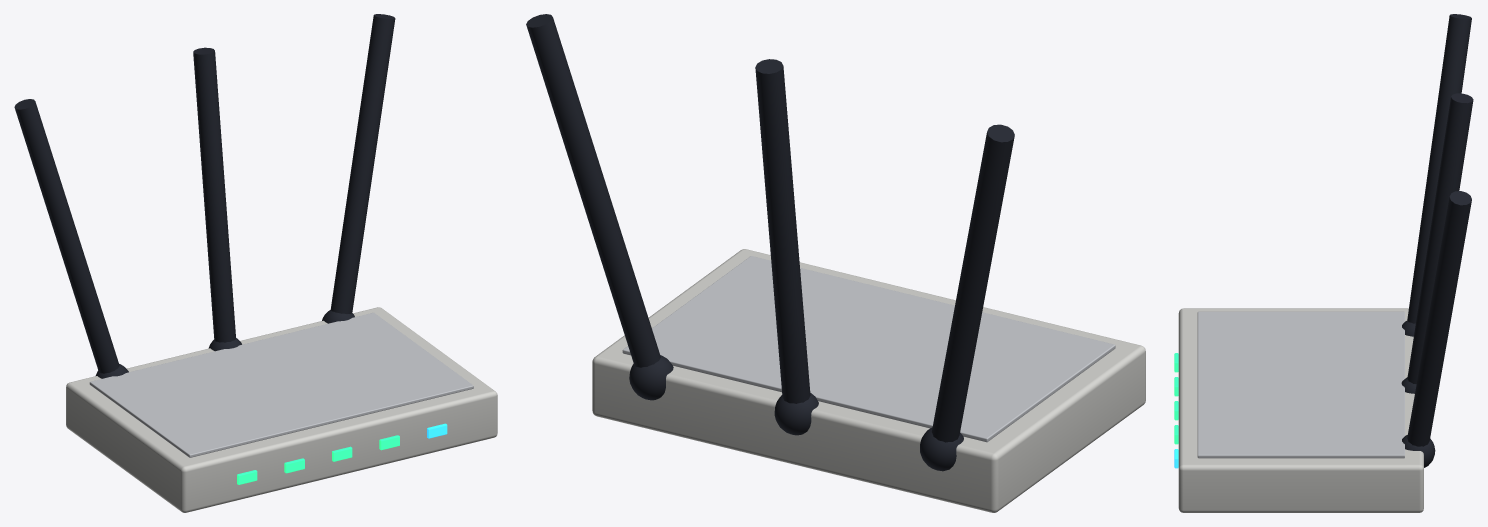
File: router.glb
The picture shows the model from 3 angles, left to right: view 1: azimuth 30°, elevation 25°; view 2: azimuth 150°, elevation 25°; view 3: azimuth 270°, elevation 25°; orthographic projection. The views are drawn at different scales.
Visible parts, largest first — view 1: router-solid, router-glow; view 2: router-solid; view 3: router-solid, router-glow.
Boxes of the visible parts, x1,y1,x2,y2 form: router-solid: [14, 14, 497, 512]; router-glow: [237, 435, 399, 484]; router-solid: [526, 14, 1145, 512]; router-solid: [1178, 14, 1473, 512]; router-glow: [1174, 353, 1178, 444].
Bounding box in the file's own units: 0.382 × 0.3153 × 0.2529.
